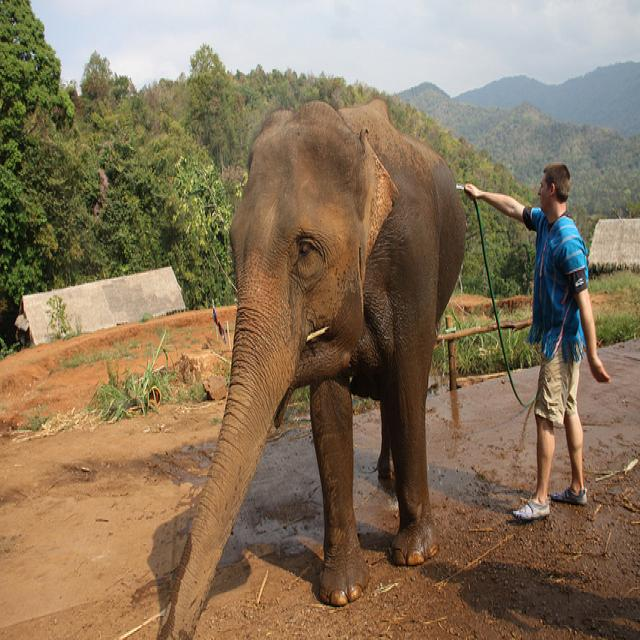Elephant: (156, 96, 467, 638)
person: (464, 162, 611, 521)
